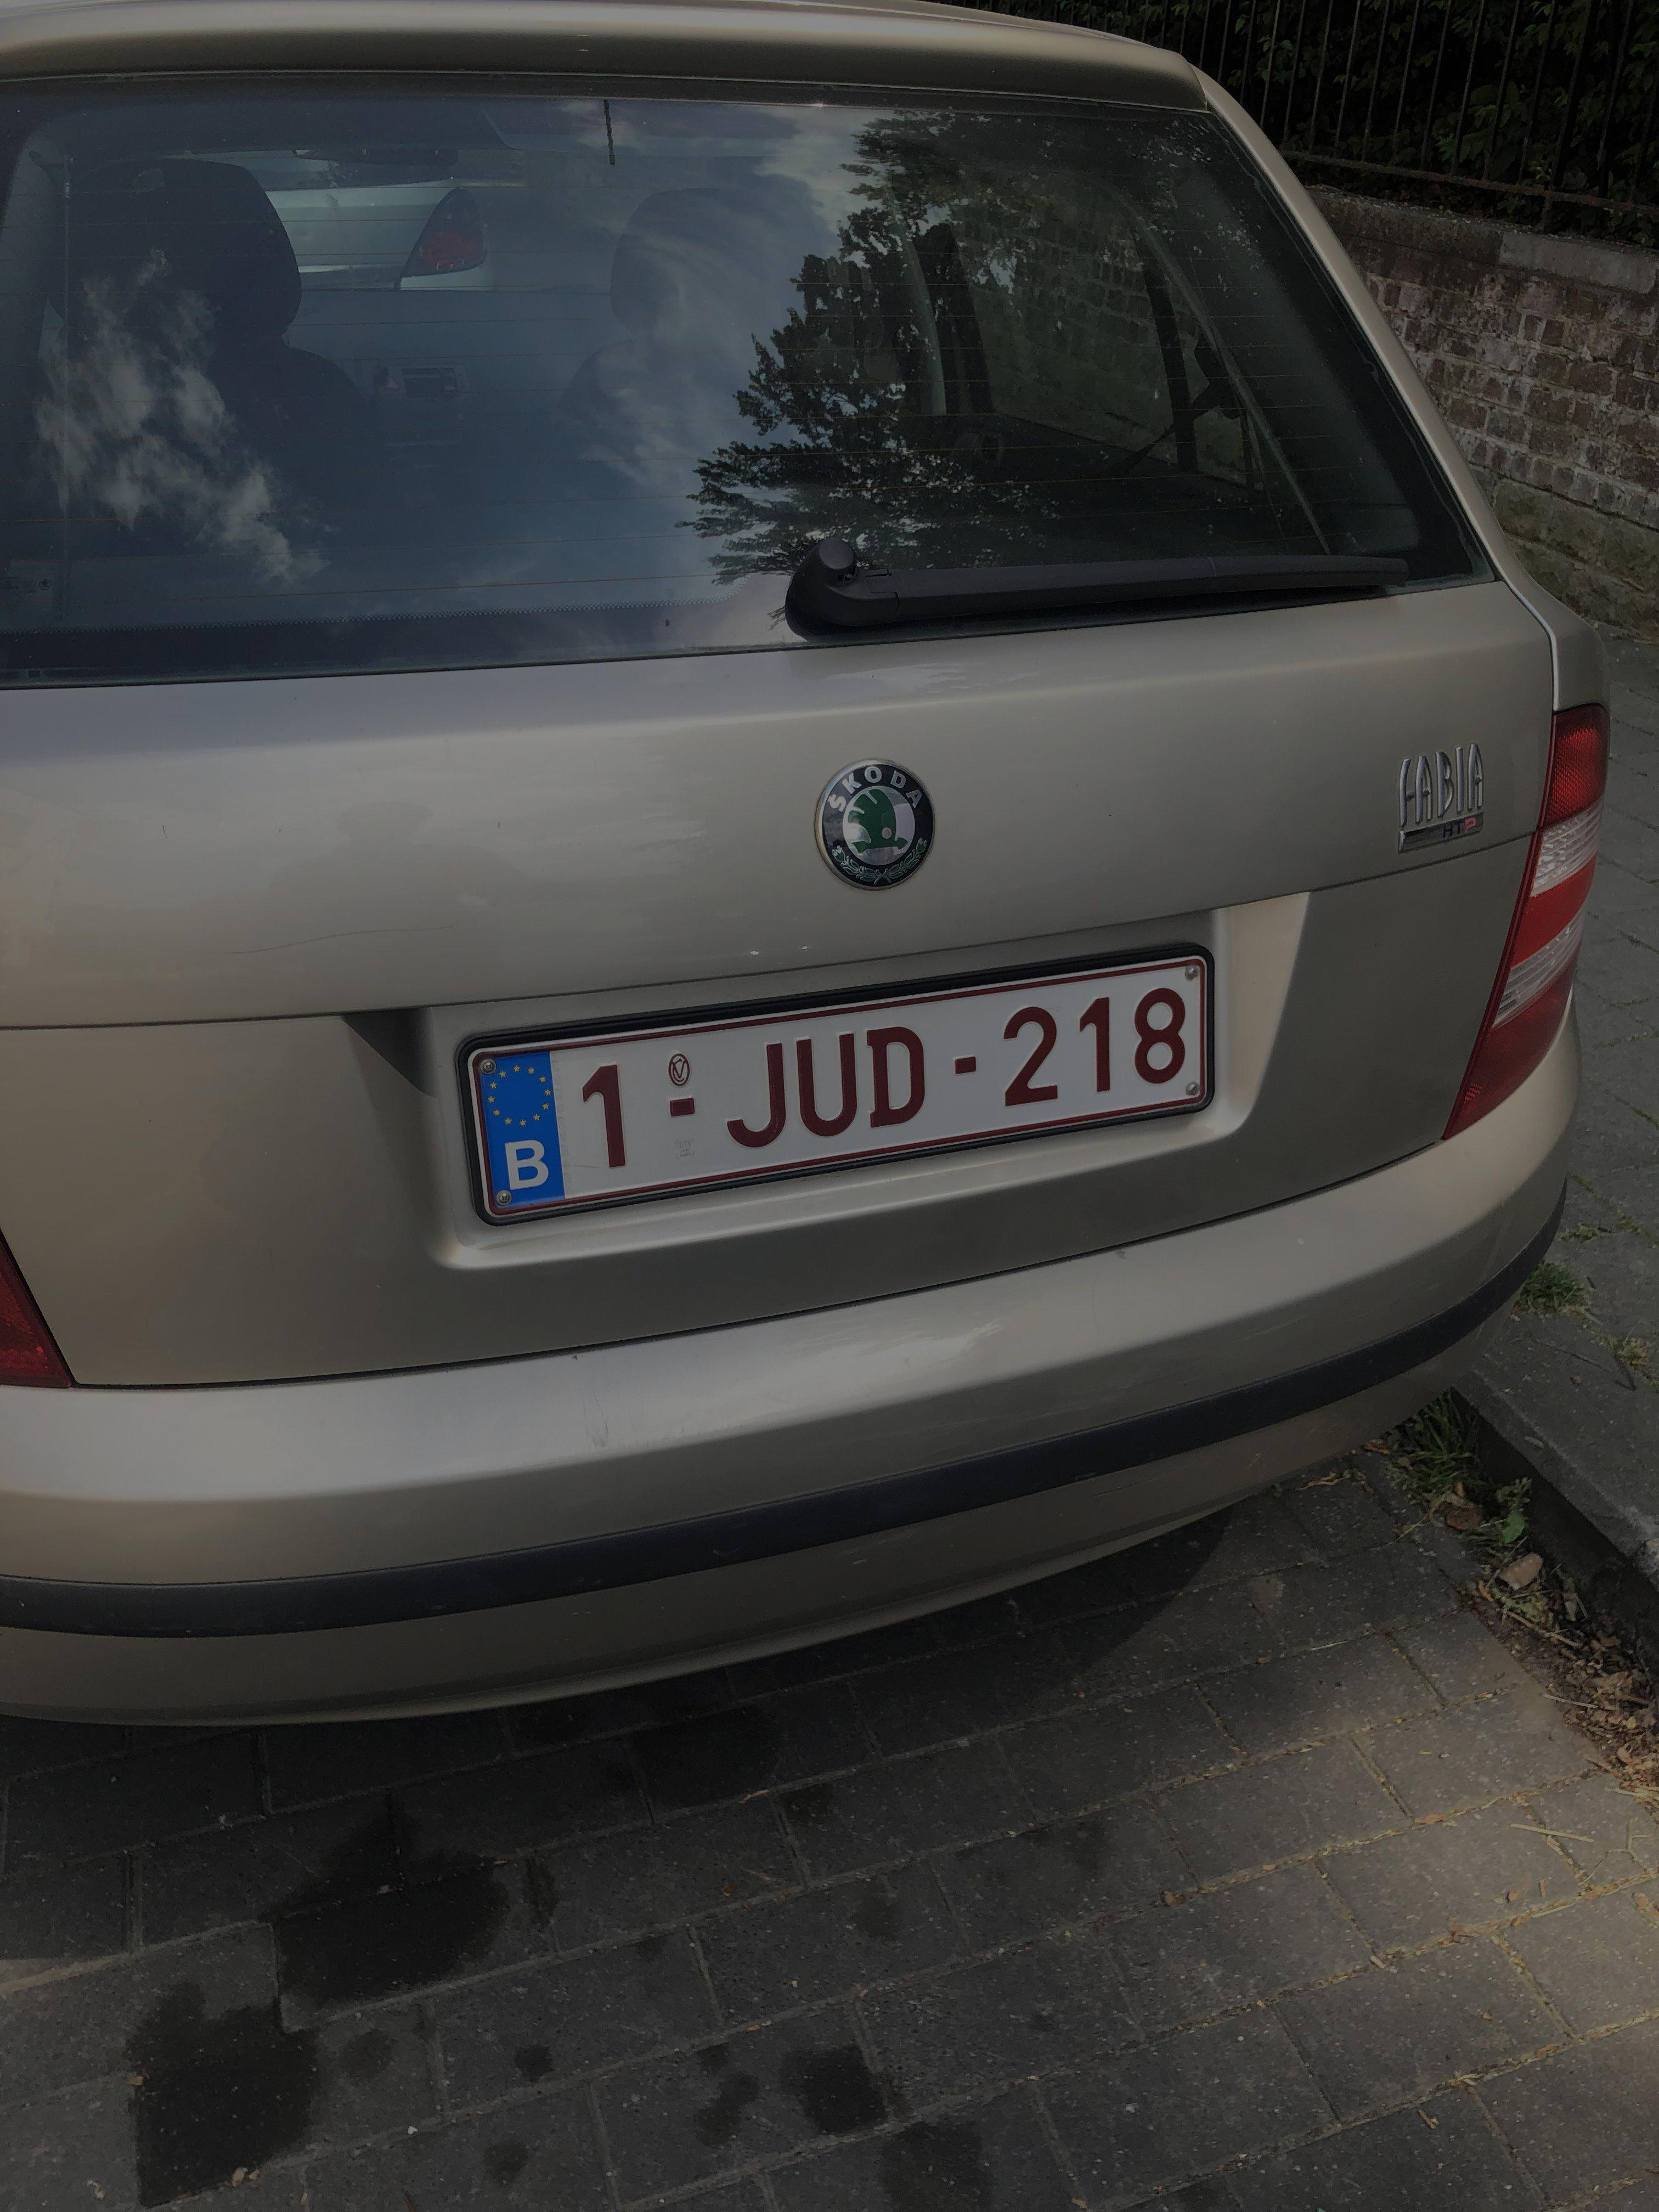plate: (421, 931, 1239, 1226)
